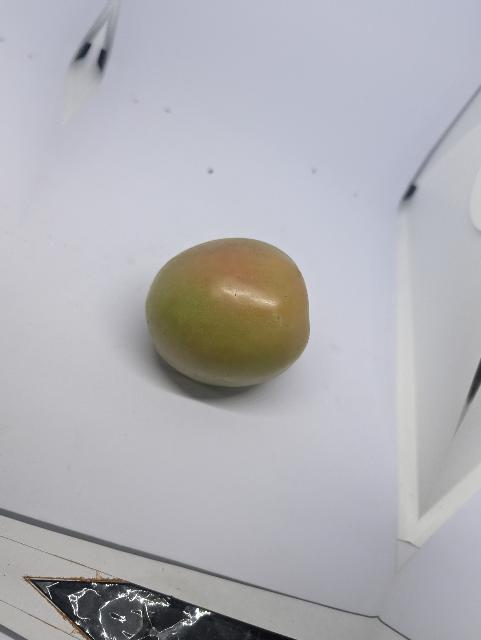breaker: (147, 236, 315, 392)
